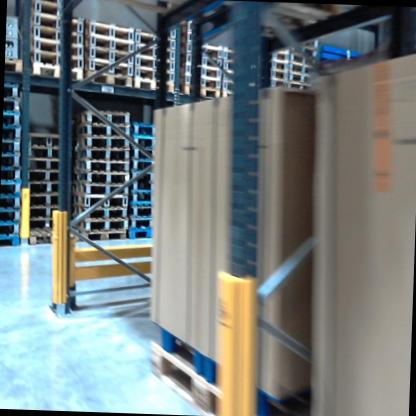pallet: (146, 335, 315, 416), (72, 0, 341, 37), (29, 61, 90, 87), (65, 199, 129, 222), (22, 36, 87, 58), (31, 10, 86, 35), (69, 212, 133, 233), (69, 141, 132, 162), (65, 188, 128, 208), (65, 223, 128, 243), (68, 165, 130, 185), (73, 130, 133, 150), (24, 22, 86, 41), (30, 48, 84, 69), (132, 76, 181, 99), (133, 61, 179, 85), (74, 118, 132, 137), (129, 53, 181, 74), (24, 227, 71, 250), (83, 57, 134, 78), (68, 181, 130, 198), (84, 20, 136, 40), (84, 46, 138, 65), (79, 110, 133, 128), (70, 156, 127, 173), (80, 34, 133, 52), (178, 39, 232, 56), (83, 69, 133, 87), (174, 70, 223, 87), (130, 42, 178, 59), (24, 169, 67, 187), (177, 50, 224, 66), (178, 61, 224, 77), (224, 48, 267, 64), (126, 201, 160, 221), (26, 158, 67, 174), (282, 79, 322, 95), (134, 32, 176, 47), (182, 84, 222, 99), (124, 189, 157, 207), (287, 59, 326, 74), (23, 147, 70, 159), (31, 1, 65, 17), (282, 50, 319, 64), (23, 136, 70, 147), (0, 193, 25, 213), (28, 219, 61, 234), (24, 185, 68, 196), (26, 197, 66, 209), (129, 121, 159, 137), (124, 219, 155, 234), (1, 151, 23, 172), (265, 65, 288, 85), (2, 136, 23, 157), (127, 147, 156, 162), (289, 73, 320, 87), (220, 68, 238, 92), (266, 44, 290, 62), (4, 77, 22, 100), (126, 159, 155, 173), (263, 76, 283, 95), (0, 208, 25, 223), (0, 221, 22, 238), (31, 208, 62, 220), (1, 232, 22, 249), (1, 167, 23, 183), (1, 178, 23, 194), (265, 59, 289, 73), (218, 57, 240, 72), (4, 111, 22, 129), (129, 137, 156, 149), (126, 181, 152, 193), (130, 167, 156, 179), (129, 231, 153, 243), (3, 97, 22, 112), (5, 60, 22, 75), (5, 125, 22, 140), (218, 90, 241, 98), (32, 0, 63, 4)
